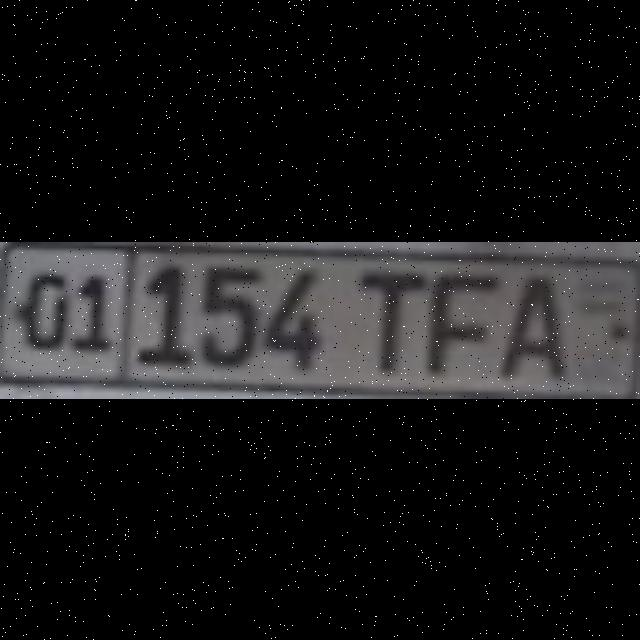0: (22, 266, 68, 346)
1: (135, 260, 187, 360), (68, 270, 109, 346)
4: (262, 264, 318, 364)
5: (198, 260, 258, 360)
A: (498, 270, 562, 372)
F: (420, 268, 494, 368)
T: (359, 268, 423, 368)
